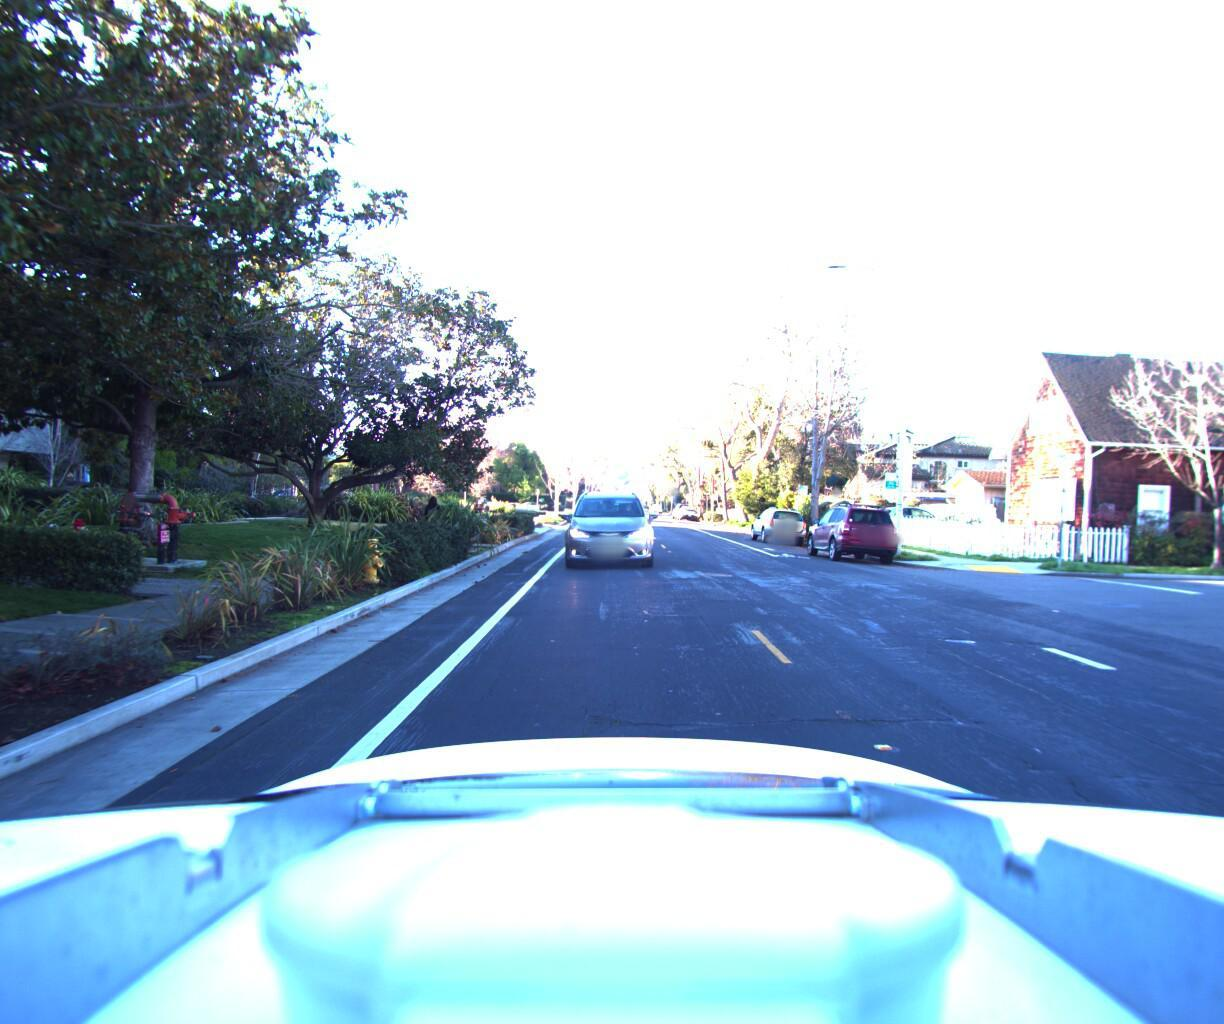car: (560, 475, 659, 570), (794, 497, 911, 562), (744, 500, 808, 542), (672, 500, 699, 518)
